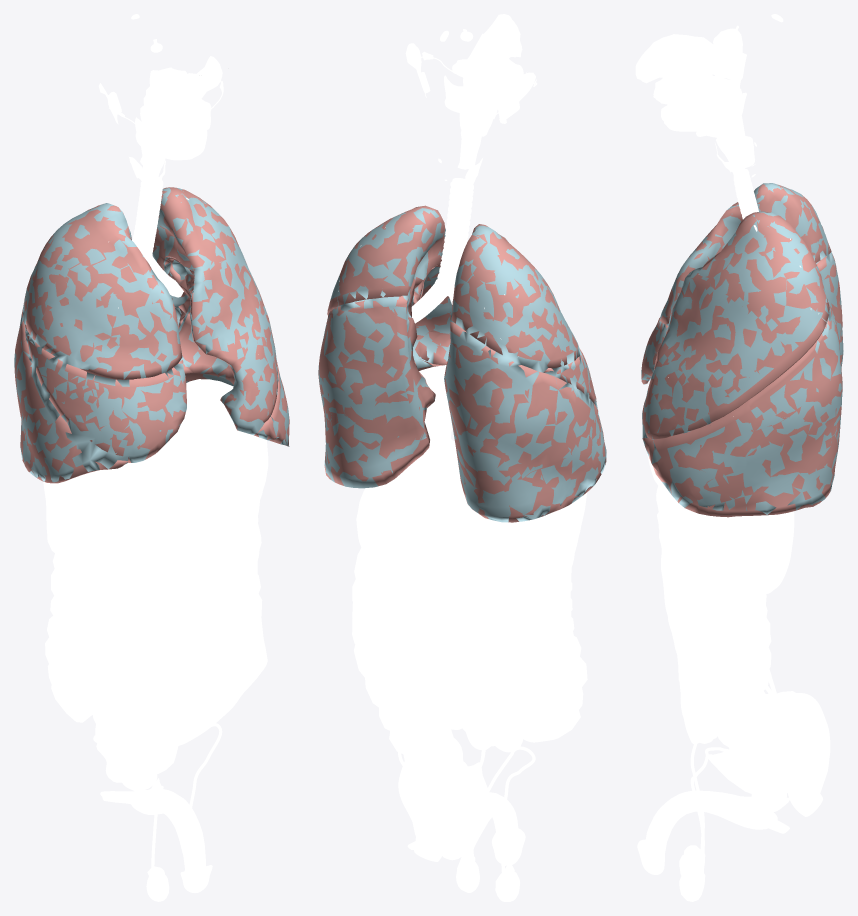
File: organos.glb
3 views of the same model, side by side, from view 1: azimuth 30°, elevation 25°; view 2: azimuth 150°, elevation 25°; view 3: azimuth 270°, elevation 25° (orthographic). The views are drawn at different scales.
Visible parts, largest first — view 1: Greater omentum, Pleura, Liver, Superior lobe of right lung, Superior lobe of left lung, Middle lobe of right lung, Ascending colon, Inferior lobe of right lung, Stomach, Corpus cavernosum of penis, Gingiva, Inferior lobe of left lung (+8 smaller); view 2: Pleura, Jejunum, Inferior lobe of right lung, Inferior lobe of left lung, Ascending colon, Descending colon, Superior lobe of left lung, Superior lobe of right lung, Sigmoid colon, Liver, Kidney.l, Kidney.r (+23 smaller); view 3: Pleura, Superior lobe of left lung, Inferior lobe of left lung, Descending colon, Greater omentum, Sigmoid colon, Corpus cavernosum of penis, Superior lobe of right lung, Mucosa of nasal cavity, Kidney.l, Urinary bladder, Gingiva (+17 smaller).
Part boxes in pixels (<box>): Greater omentum: <box>64,488,267,748</box>; Pleura: <box>14,187,289,482</box>; Liver: <box>43,379,260,558</box>; Superior lobe of right lung: <box>24,205,182,379</box>; Superior lobe of left lung: <box>153,187,277,430</box>; Middle lobe of right lung: <box>24,324,186,462</box>; Ascending colon: <box>45,553,97,722</box>; Inferior lobe of right lung: <box>14,303,127,483</box>; Stomach: <box>169,438,268,534</box>; Corpus cavernosum of penis: <box>100,778,205,871</box>; Gingiva: <box>135,98,211,160</box>; Inferior lobe of left lung: <box>175,307,289,446</box>; Pleura: <box>318,207,606,522</box>; Jejunum: <box>390,529,532,752</box>; Inferior lobe of right lung: <box>444,321,606,522</box>; Inferior lobe of left lung: <box>318,296,442,486</box>; Ascending colon: <box>515,566,587,742</box>; Descending colon: <box>352,548,464,776</box>; Superior lobe of left lung: <box>327,205,450,365</box>; Superior lobe of right lung: <box>451,224,577,368</box>; Sigmoid colon: <box>398,730,462,861</box>; Liver: <box>419,365,586,576</box>; Kidney.l: <box>356,484,417,575</box>; Kidney.r: <box>485,525,534,617</box>; Pleura: <box>641,183,843,514</box>; Superior lobe of left lung: <box>642,212,829,439</box>; Inferior lobe of left lung: <box>642,301,842,517</box>; Descending colon: <box>713,530,817,759</box>; Greater omentum: <box>657,500,726,744</box>; Sigmoid colon: <box>788,693,830,816</box>; Corpus cavernosum of penis: <box>644,790,789,856</box>; Superior lobe of right lung: <box>660,184,831,324</box>; Mucosa of nasal cavity: <box>635,34,710,83</box>; Kidney.l: <box>753,511,794,594</box>; Urinary bladder: <box>708,751,797,797</box>; Gingiva: <box>653,74,717,131</box>.
Bounding box in the file's own units: 0.2618 × 0.8933 × 0.192.
